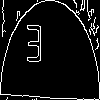E: (25, 25, 43, 72)
